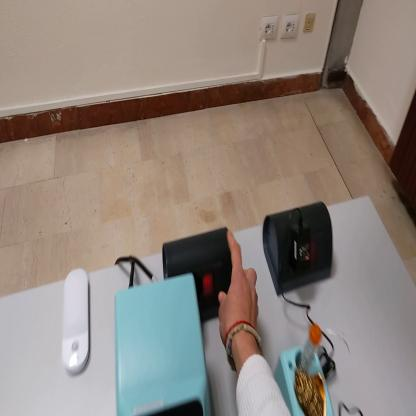hand: (216, 229, 260, 345)
socket: (259, 194, 335, 302), (163, 225, 233, 319)
welder base: (279, 314, 336, 415)
welder station: (115, 267, 214, 415)
